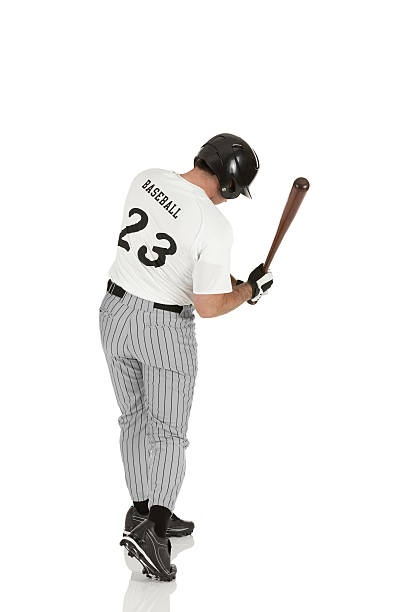bita: (260, 172, 308, 286)
